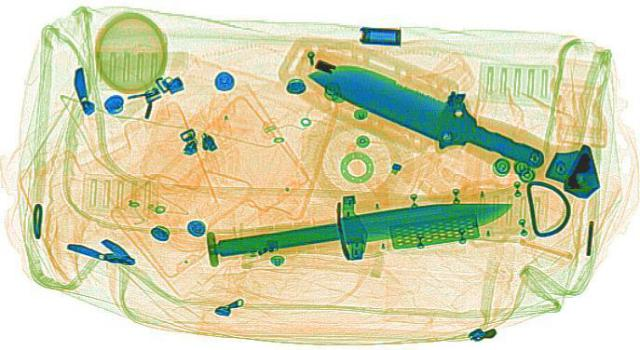Knife: (294, 54, 564, 173), (202, 192, 520, 257)
